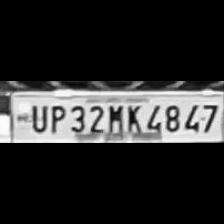2: (86, 101, 104, 135)
3: (67, 100, 85, 134)
4: (142, 100, 160, 134), (182, 100, 200, 132)
7: (199, 100, 217, 132)
8: (160, 101, 180, 133)
K: (124, 100, 142, 136)
M: (106, 102, 124, 136)
P: (47, 102, 65, 134)
U: (26, 101, 48, 133)
